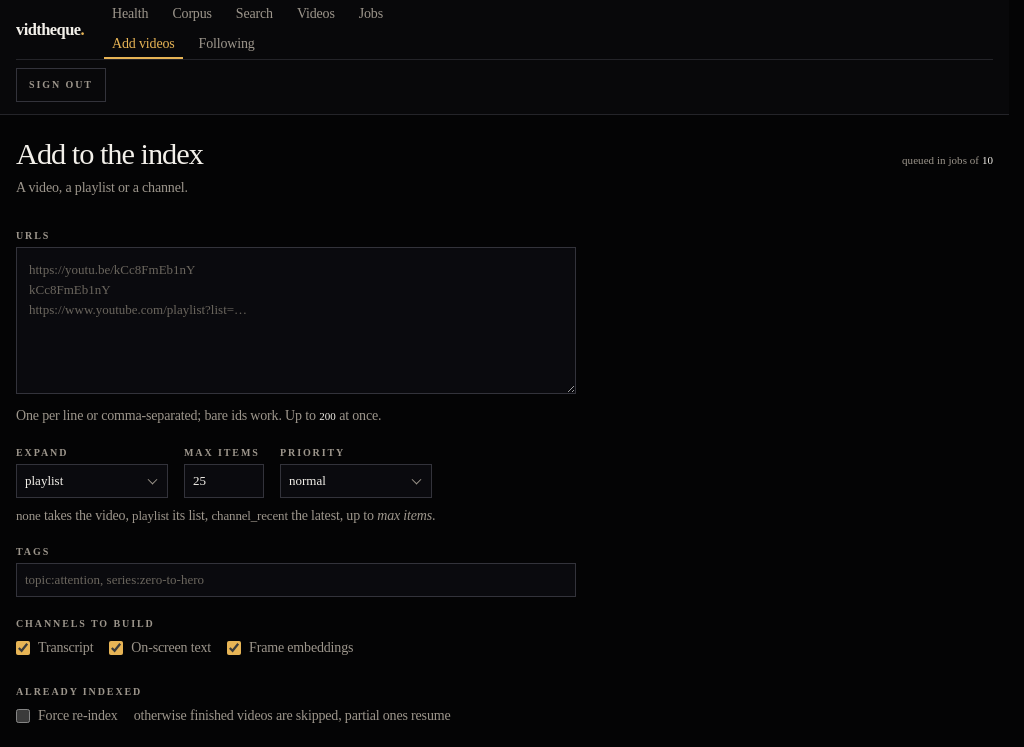
Scenario: the index form › the receipt › echoes what the server ran on back into the three controls
Expected: the text box labelled "URLs" is shown, [16, 247, 576, 394]
Replace the text in the number field labelled "Max items" with "5" at (224, 481), box [184, 464, 264, 498]
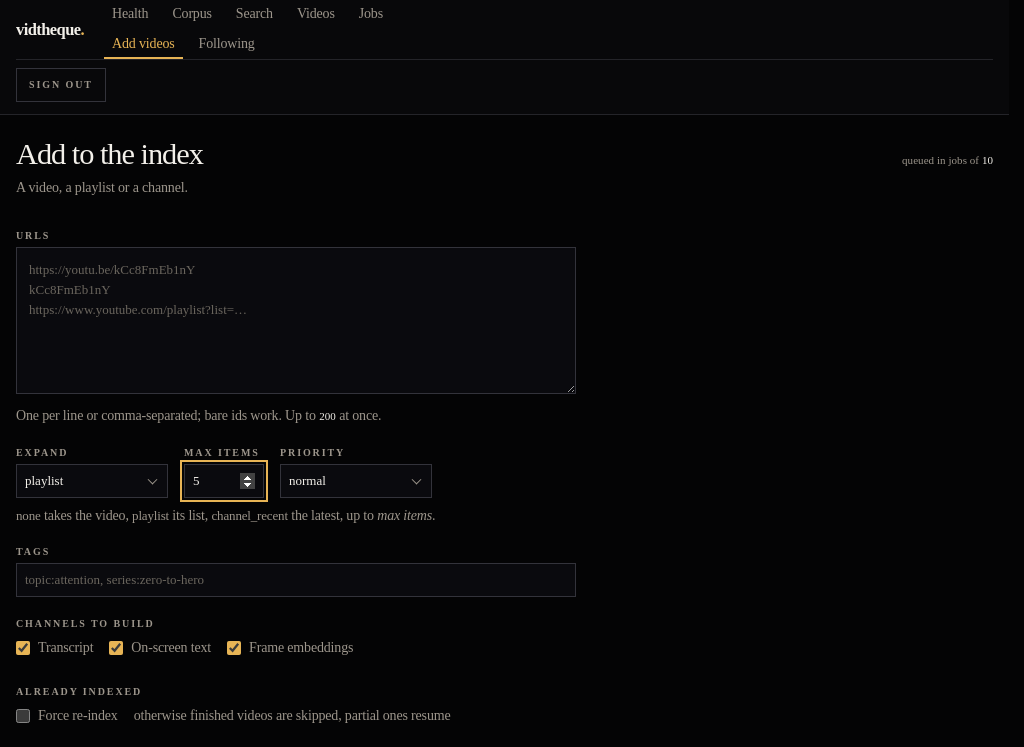
Type "https://youtu.be/solo0000002" into the text box labelled "URLs" at (296, 321), box [16, 247, 576, 394]
(page scrolled)
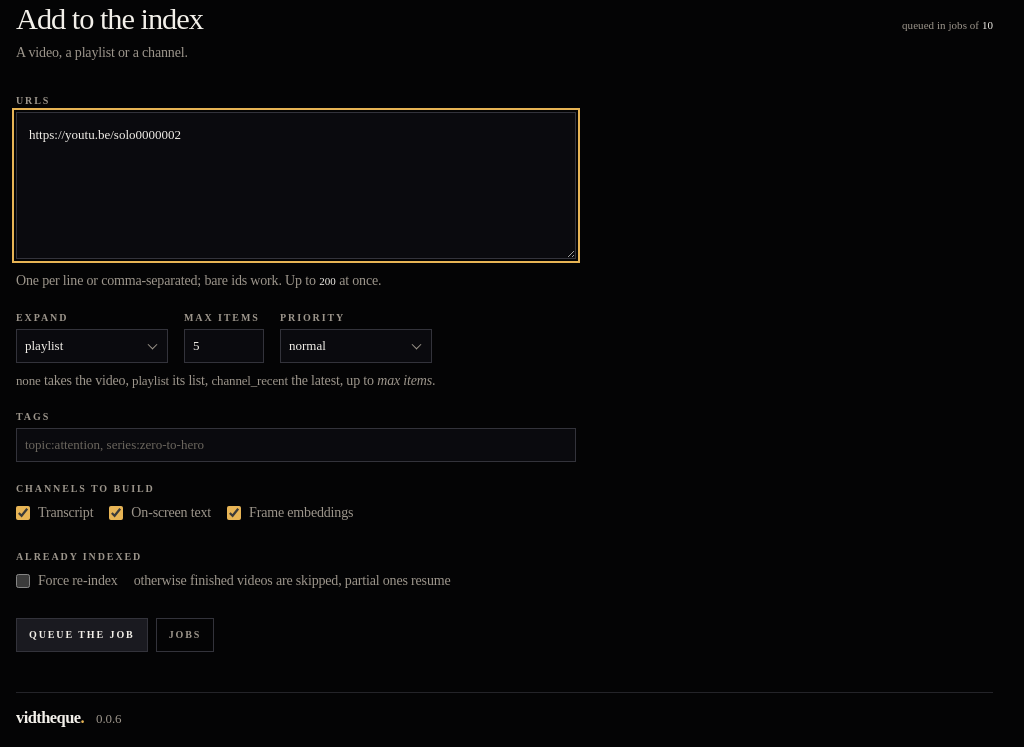
Click the button "Queue the job" at (82, 635), box [16, 618, 148, 652]
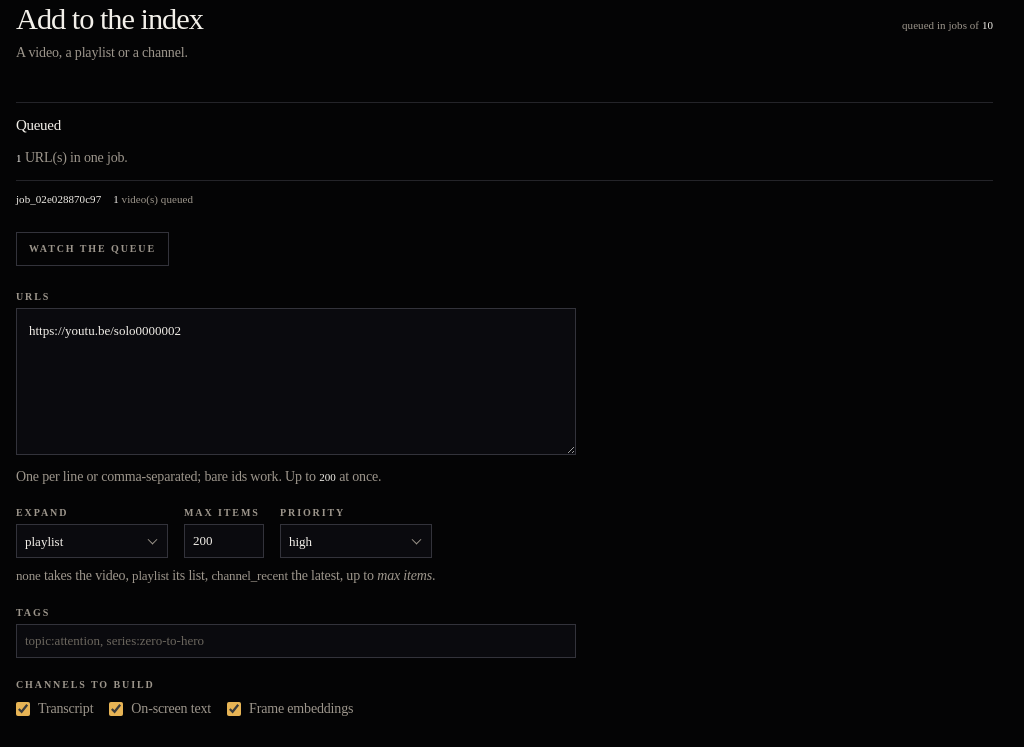
Now the message "Queued 1 URL(s) in one job. job_02e028870c97 1 video(s) queued Watch the queue" is shown, box [16, 102, 993, 266]
Now the number field labelled "Max items" holds "200", box [184, 524, 264, 558]
Now the dropdown labelled "Priority" shows "high", box [280, 524, 432, 558]
